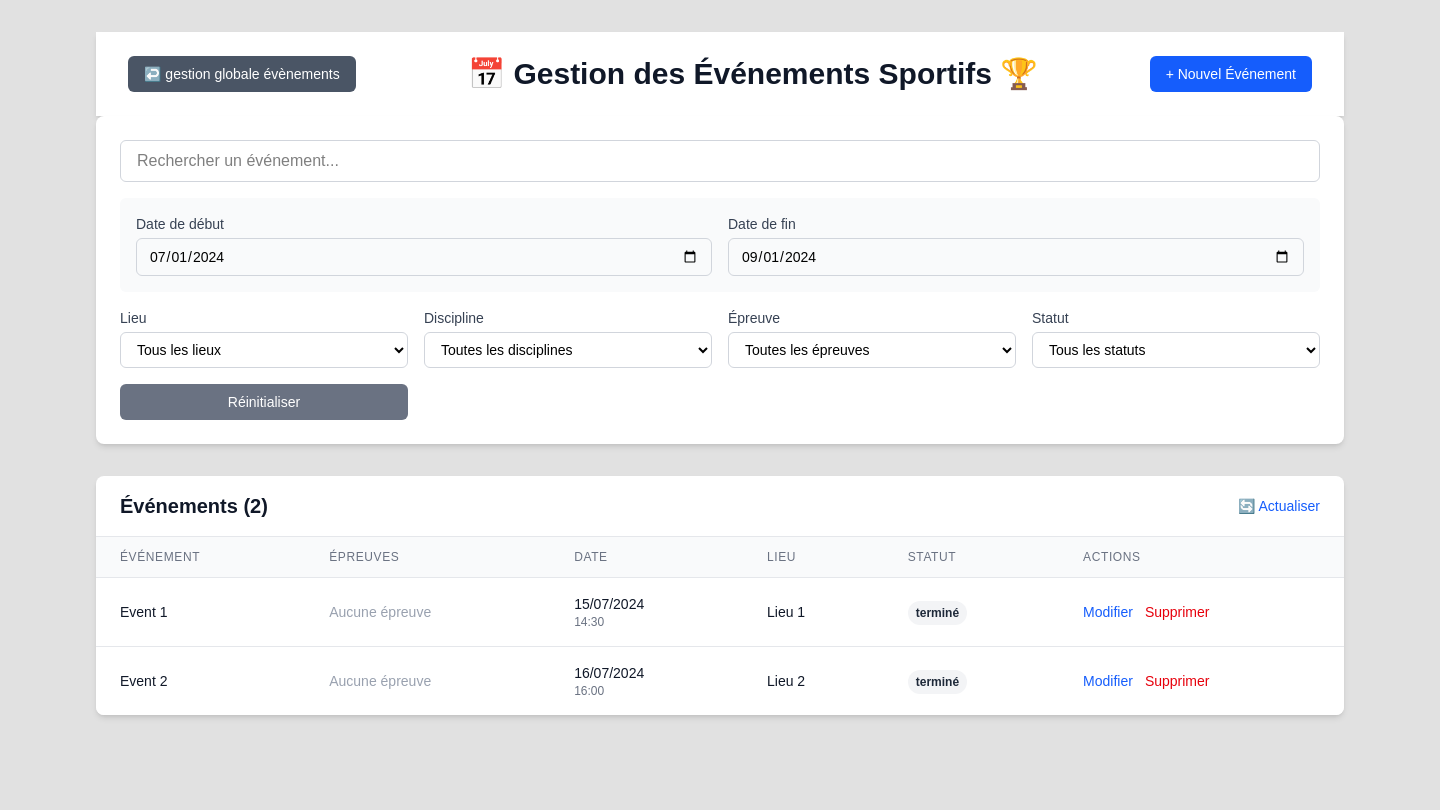
EvenementsManagement › should delete event
Click the button "Supprimer" in the row of "Event 1": (1177, 612) [1145, 602, 1210, 622]
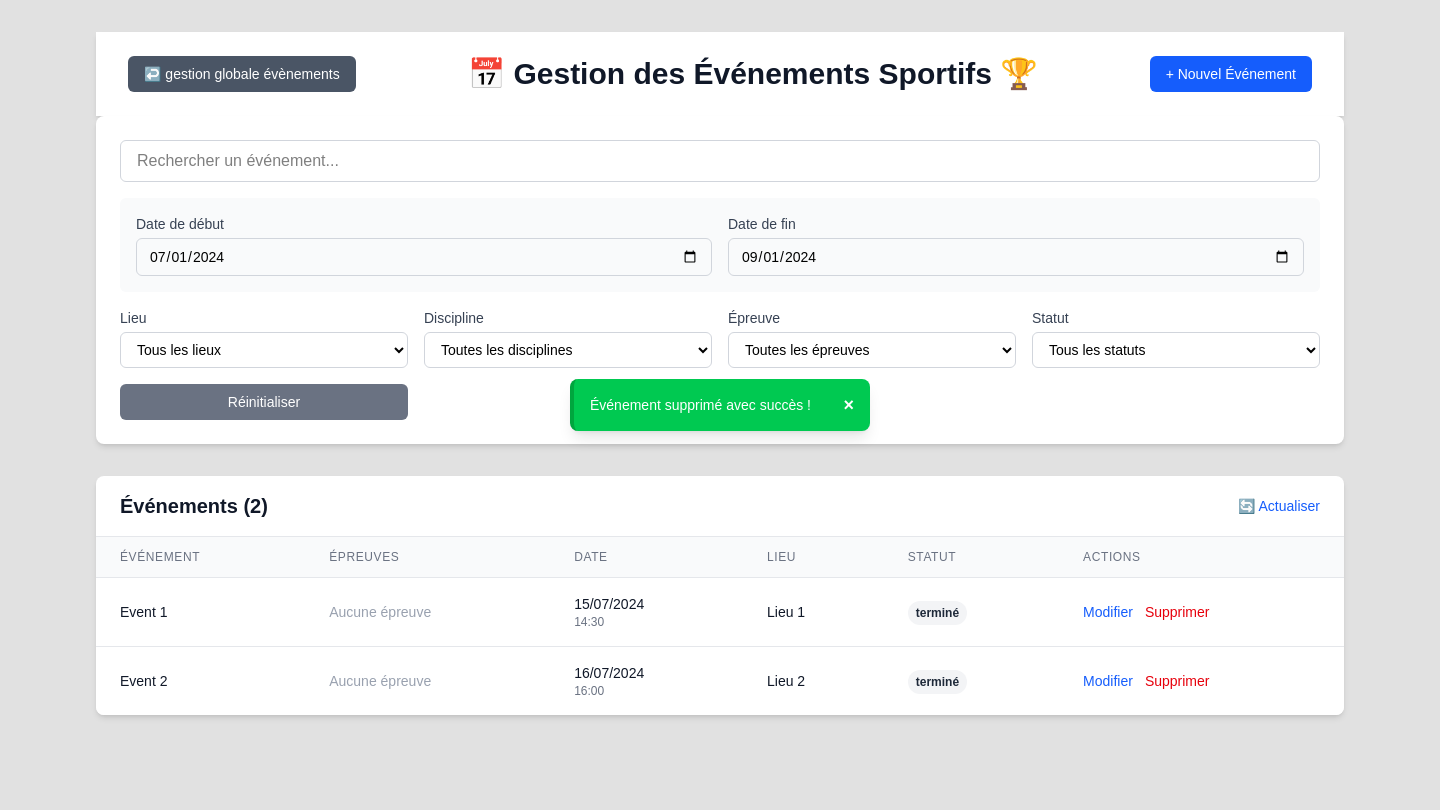
Check: the text "Événement supprimé avec succès !" is shown, box [590, 395, 811, 415]
